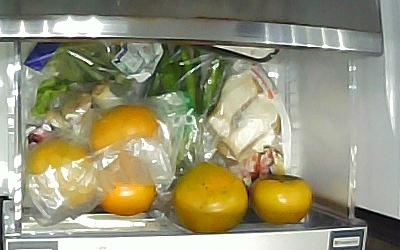persimmon: (172, 162, 249, 234), (249, 175, 314, 223)
persimmon_vinyl: (28, 138, 96, 211), (91, 105, 160, 154), (100, 158, 156, 216)
